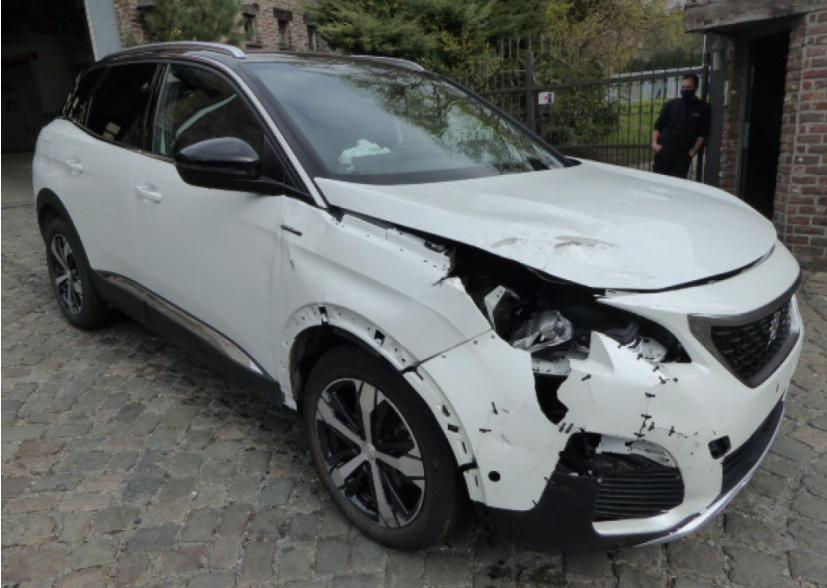Back-door: (62, 60, 165, 287)
Back-wheel: (45, 217, 109, 330)
Back-window: (64, 63, 158, 149)
Fender: (271, 196, 566, 511)
Front-bumper: (488, 233, 803, 551)
Front-door: (136, 59, 286, 381)
Front-wheel: (303, 344, 472, 552)
Front-window: (147, 64, 302, 190)
Grille: (688, 269, 801, 388)
Hood: (314, 159, 777, 292)
Mirror: (176, 138, 284, 195)
Quarter-panel: (33, 117, 74, 220)
Rocker-panel: (92, 275, 283, 410)
Roof: (190, 50, 406, 62)
Windshield: (245, 60, 566, 186)
